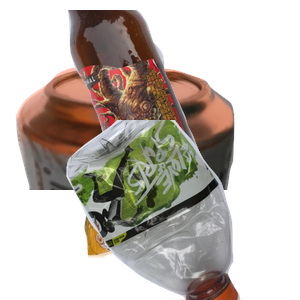glass: (65, 10, 300, 190)
metal: (13, 61, 240, 241)
plastic: (64, 120, 300, 300)
trash: (81, 168, 261, 300)
